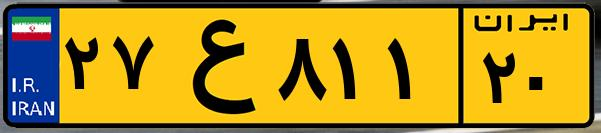0: (525, 38, 570, 115)
1: (385, 28, 445, 110), (330, 28, 385, 110)
2: (57, 26, 110, 100), (475, 38, 525, 113)
7: (110, 28, 158, 98)
8: (270, 28, 330, 110)
ع: (158, 12, 270, 120)
